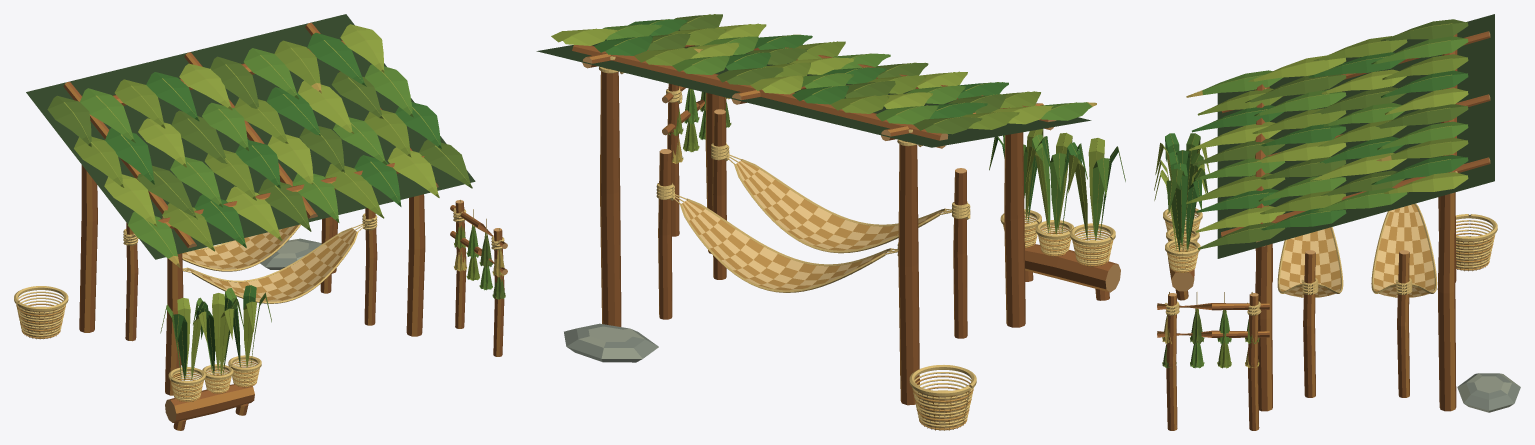
Rendered from centro_cura_nivel_1.glb.
3 renders of one model, left to right at view 1: azimuth 30°, elevation 25°; view 2: azimuth 150°, elevation 25°; view 3: azimuth 270°, elevation 25°, orthographic. The views are drawn at different scales.
Parts seen in each view (by area): view 1: Oca_Forro, Oca_FolhaLima, Oca_FolhaJade, Oca_Madeira, Oca_FolhaVerde, Oca_FolhaMusgo, Oca_FolhaOliva, Oca_MadeiraClara, Oca_Fibras, Oca_FibraMel, Oca_FibraClara, Oca_Nervuras (+2 smaller); view 2: Oca_Madeira, Oca_Fibras, Oca_FolhaVerde, Oca_FibraMel, Oca_FolhaLima, Oca_FibraClara, Oca_FolhaJade, Oca_FolhaOliva, Oca_FolhaMusgo, Oca_Forro, Oca_MadeiraClara, Oca_Nervuras (+3 smaller); view 3: Oca_Madeira, Oca_Forro, Oca_FolhaVerde, Oca_FolhaJade, Oca_FolhaLima, Oca_FolhaMusgo, Oca_FolhaOliva, Oca_FibraMel, Oca_Fibras, Oca_MadeiraClara, Oca_FibraClara, Oca_Nervuras (+3 smaller).
Boxes of the visible parts, bbox=[...] form: Oca_Forro: bbox=[26, 14, 475, 259]; Oca_FolhaLima: bbox=[104, 24, 439, 379]; Oca_FolhaJade: bbox=[105, 32, 441, 379]; Oca_Madeira: bbox=[63, 23, 505, 430]; Oca_FolhaVerde: bbox=[80, 48, 492, 379]; Oca_FolhaMusgo: bbox=[47, 56, 505, 299]; Oca_FolhaOliva: bbox=[74, 40, 479, 280]; Oca_MadeiraClara: bbox=[65, 23, 506, 430]; Oca_Fibras: bbox=[14, 199, 504, 400]; Oca_FibraMel: bbox=[16, 225, 356, 401]; Oca_FibraClara: bbox=[19, 226, 356, 401]; Oca_Nervuras: bbox=[64, 30, 505, 380]; Oca_Madeira: bbox=[572, 45, 1117, 405]; Oca_Fibras: bbox=[599, 56, 1115, 430]; Oca_FolhaVerde: bbox=[602, 24, 1109, 239]; Oca_FibraMel: bbox=[682, 160, 1113, 430]; Oca_FolhaLima: bbox=[551, 24, 1104, 240]; Oca_FibraClara: bbox=[682, 161, 1110, 430]; Oca_FolhaJade: bbox=[594, 19, 1125, 236]; Oca_FolhaOliva: bbox=[634, 28, 1040, 152]; Oca_FolhaMusgo: bbox=[647, 14, 1007, 134]; Oca_Forro: bbox=[536, 29, 1091, 147]; Oca_MadeiraClara: bbox=[589, 53, 1109, 402]; Oca_Nervuras: bbox=[571, 14, 1125, 240]; Oca_Madeira: bbox=[1157, 31, 1489, 430]; Oca_Forro: bbox=[1217, 14, 1494, 258]; Oca_FolhaVerde: bbox=[1166, 36, 1468, 368]; Oca_FolhaJade: bbox=[1165, 52, 1468, 249]; Oca_FolhaLima: bbox=[1154, 55, 1468, 248]; Oca_FolhaMusgo: bbox=[1162, 19, 1468, 368]; Oca_FolhaOliva: bbox=[1186, 36, 1468, 368]; Oca_FibraMel: bbox=[1165, 204, 1494, 297]; Oca_Fibras: bbox=[1163, 88, 1497, 315]; Oca_MadeiraClara: bbox=[1157, 54, 1455, 430]; Oca_FibraClara: bbox=[1166, 205, 1491, 297]; Oca_Nervuras: bbox=[1154, 23, 1452, 366].
Size of the model in its own units: 4.21 by 2.71 by 3.59.
